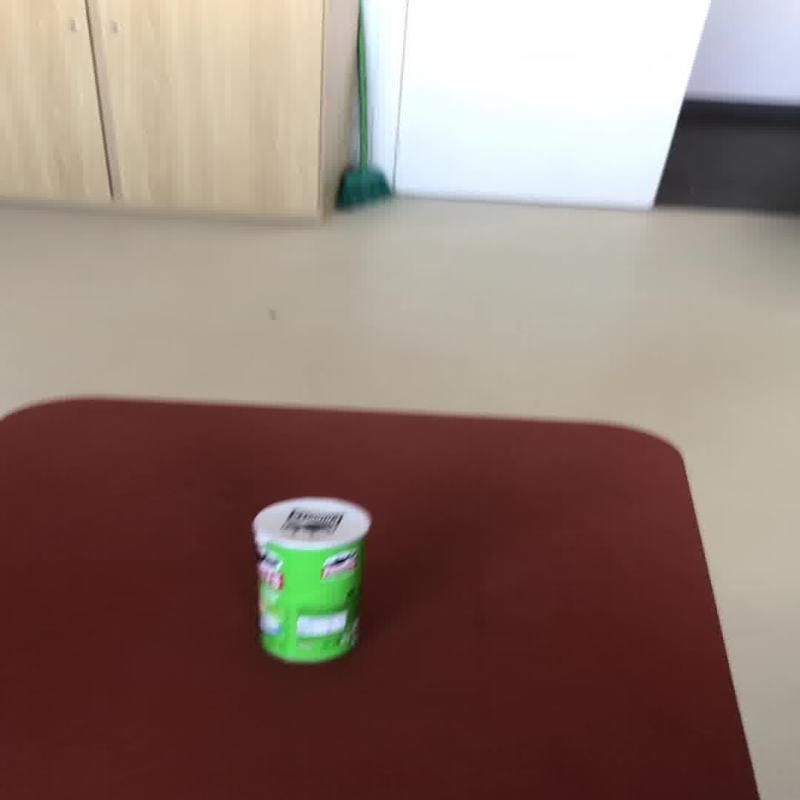pringles: (250, 495, 372, 664)
